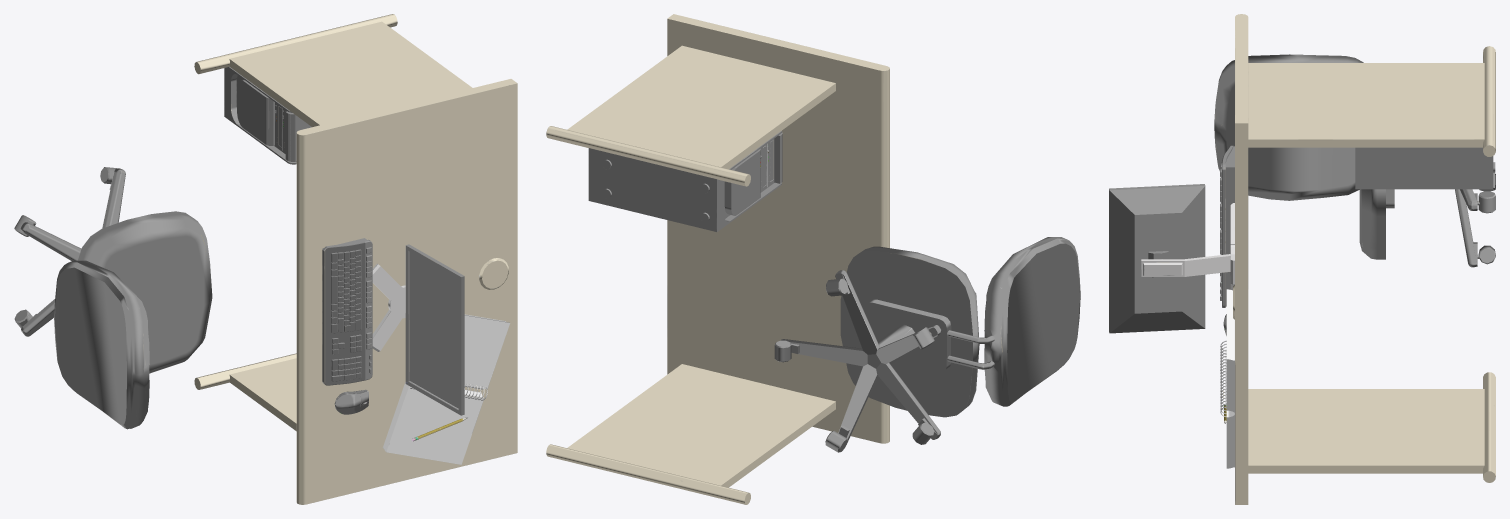
Rendered from Student_Desk_Workstation.obj.
3 views of the same model, side by side, from view 1: azimuth 30°, elevation 25°; view 2: azimuth 150°, elevation 25°; view 3: azimuth 270°, elevation 25° (orthographic). The views are drawn at different scales.
Parts seen in each view (by area): view 1: Solid1.001; view 2: Solid1.001; view 3: Solid1.001.
Part boxes in pixels (bbox=[...]): Solid1.001: bbox=[14, 14, 517, 504]; Solid1.001: bbox=[546, 14, 1080, 504]; Solid1.001: bbox=[1109, 14, 1495, 504].
Size of the model in its own units: 1.37 by 1.22 by 1.12.
